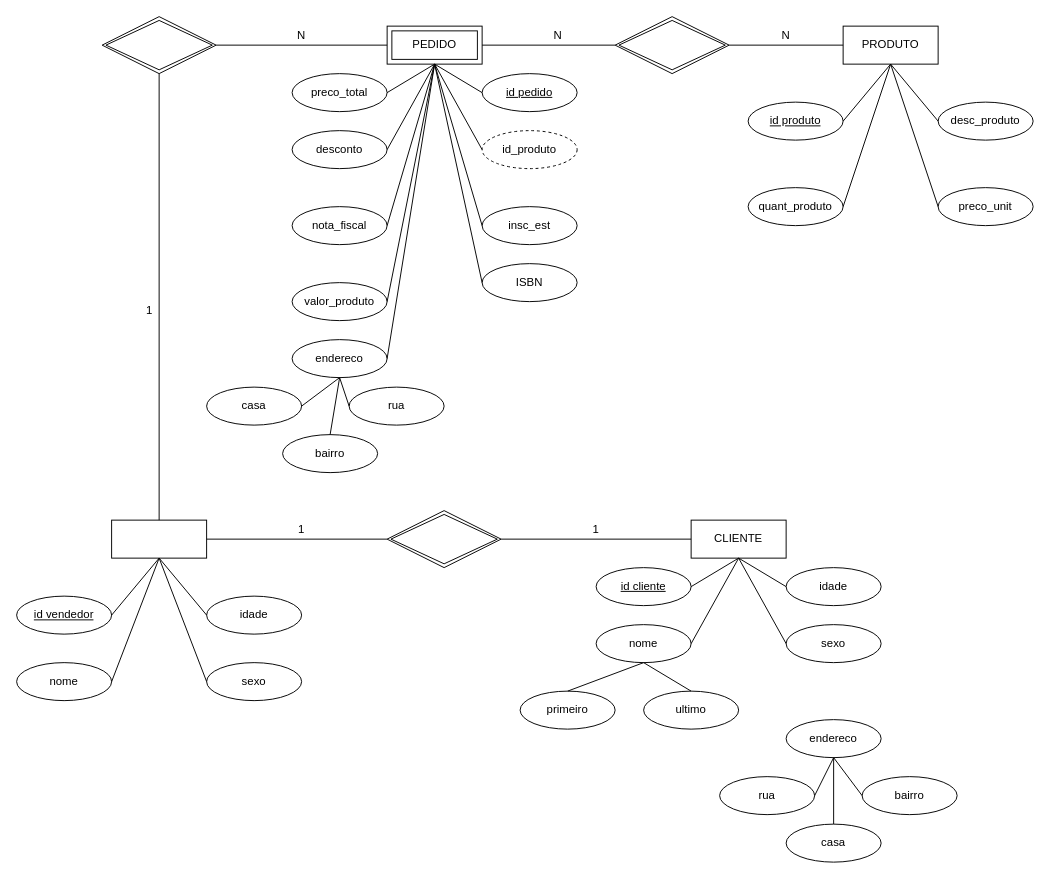
This 1050x879 diagram has some shape labels left out. Here are the shapes that lost their labels. From the top down, the centre of each, then its label:
point (158, 45): COMPRA
point (671, 45): CONTROLA
point (159, 538): VENDEDOR
point (443, 539): VENDE
